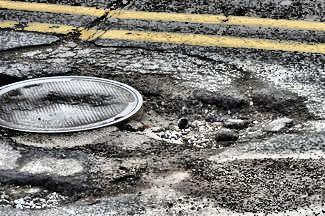pothole: (143, 85, 314, 152), (0, 169, 87, 214)
